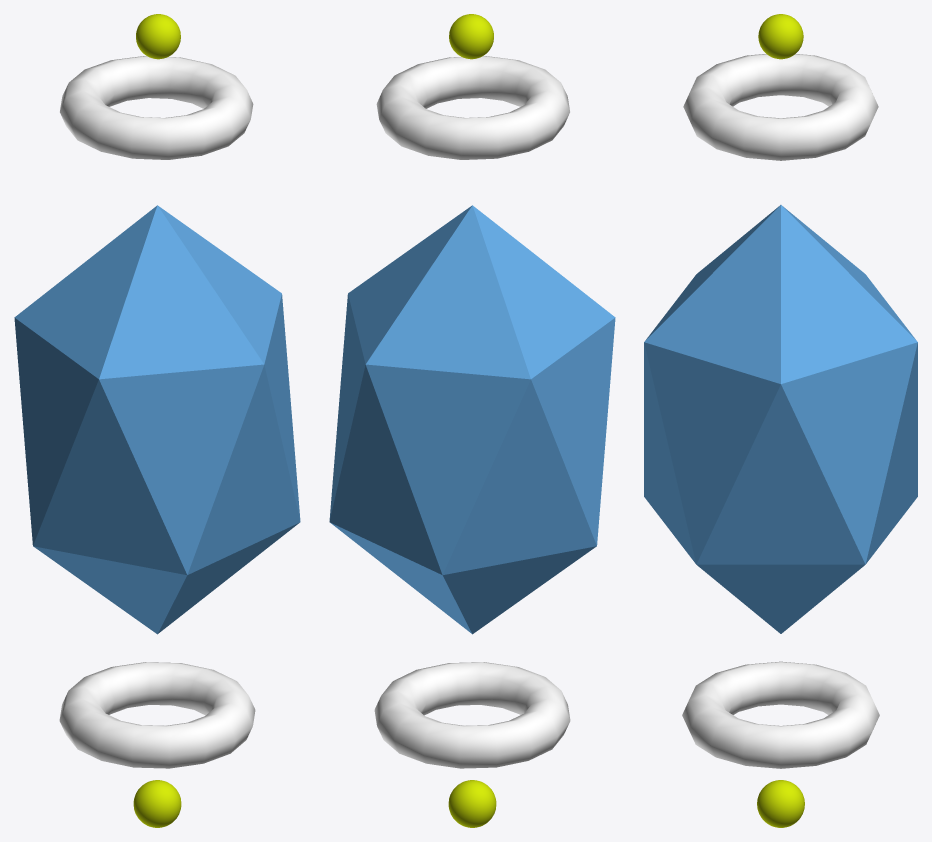
Rendered from pickup.fbx.
3 views of the same model, side by side, from view 1: azimuth 30°, elevation 25°; view 2: azimuth 150°, elevation 25°; view 3: azimuth 270°, elevation 25° (orthographic).
Parts seen in each view (by area): view 1: Icosphere, SuperToroid.002, SuperToroid.001, Sphere, Sphere.001; view 2: Icosphere, SuperToroid.002, SuperToroid.001, Sphere, Sphere.001; view 3: Icosphere, SuperToroid.002, SuperToroid.001, Sphere, Sphere.001.
Boxes of the visible parts, x1,y1,x2,y2 form: Icosphere: (14, 205, 300, 634); SuperToroid.002: (59, 662, 255, 768); SuperToroid.001: (60, 56, 253, 159); Sphere: (133, 780, 181, 827); Sphere.001: (136, 14, 180, 59); Icosphere: (329, 205, 615, 634); SuperToroid.002: (374, 662, 570, 768); SuperToroid.001: (376, 56, 569, 159); Sphere: (448, 780, 496, 827); Sphere.001: (449, 14, 493, 59); Icosphere: (644, 205, 917, 633); SuperToroid.002: (682, 661, 879, 768); SuperToroid.001: (683, 54, 878, 160); Sphere: (757, 780, 804, 827); Sphere.001: (758, 14, 803, 59).
Size of the model in its own units: 31.26 by 97.05 by 29.73.
